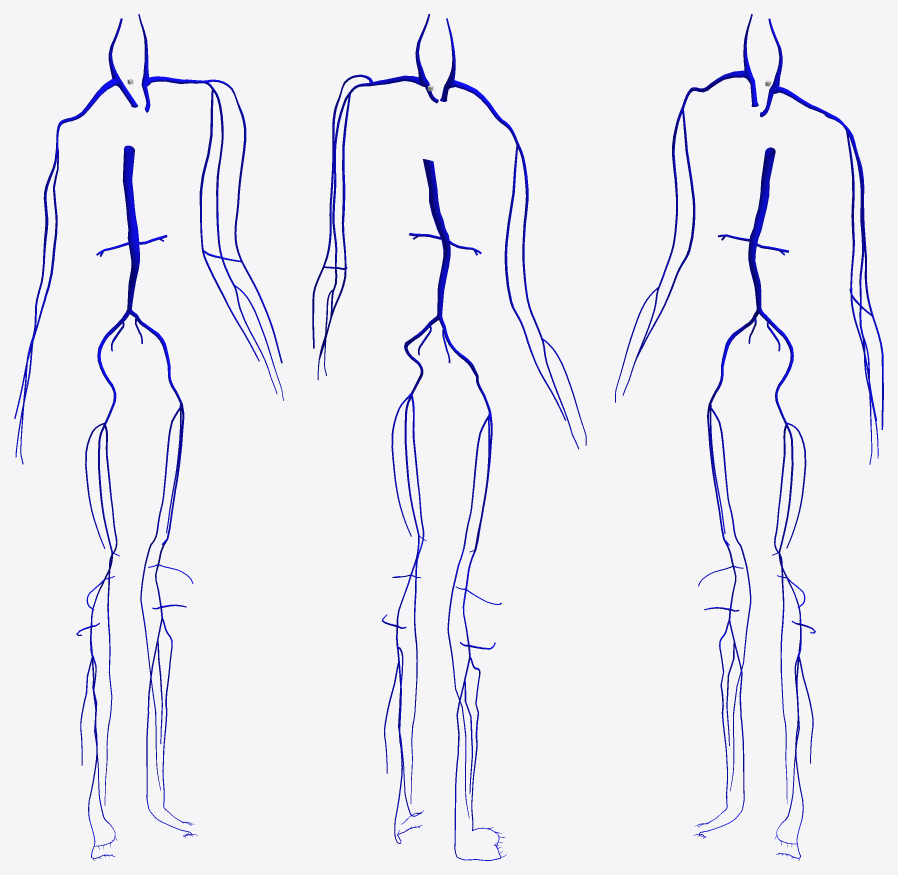
The model's file is arterias.gltf.
3 renders of one model, left to right at view 1: azimuth 30°, elevation 25°; view 2: azimuth 150°, elevation 25°; view 3: azimuth 330°, elevation 25°, orthographic. The views are drawn at different scales.
Parts seen in each view (by area): view 1: Mesh_89, Mesh_88, Mesh_87, Mesh_86; view 2: Mesh_89, Mesh_88, Mesh_87, Mesh_86; view 3: Mesh_89, Mesh_88, Mesh_87, Mesh_86.
Boxes of the visible parts, x1,y1,x2,y2 form: Mesh_89: [76, 145, 197, 860]; Mesh_88: [149, 76, 283, 400]; Mesh_87: [14, 78, 115, 464]; Mesh_86: [108, 14, 150, 112]; Mesh_89: [382, 159, 506, 860]; Mesh_88: [312, 74, 418, 380]; Mesh_87: [453, 80, 586, 449]; Mesh_86: [415, 14, 455, 103]; Mesh_89: [693, 147, 815, 860]; Mesh_88: [776, 86, 883, 464]; Mesh_87: [615, 70, 744, 402]; Mesh_86: [743, 14, 782, 117].
Size of the model in its own units: 145 by 430 by 33.58.
